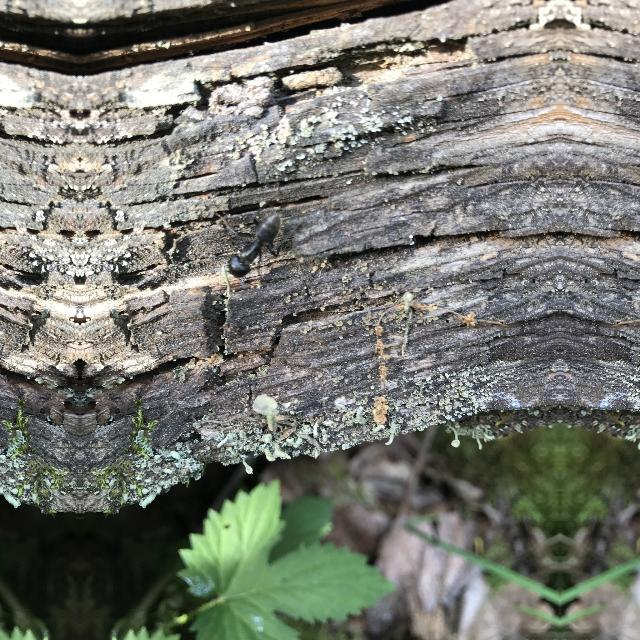Camponotus: (212, 198, 294, 288)
